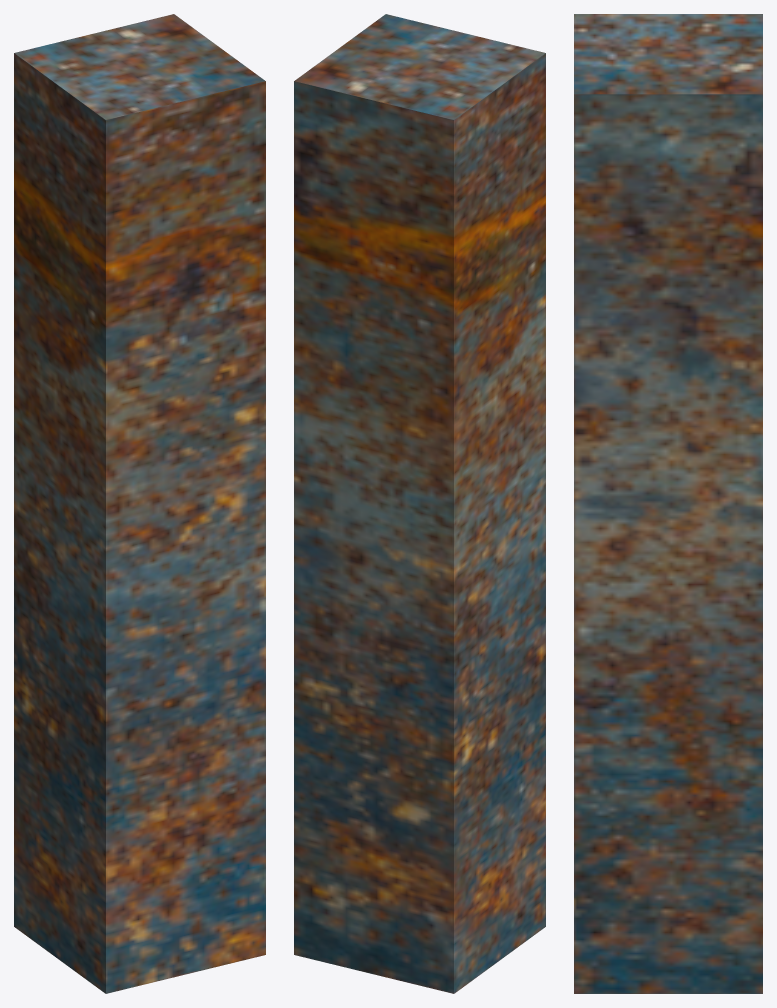
The model's file is big filar.fbx.
3 renders of one model, left to right at view 1: azimuth 30°, elevation 25°; view 2: azimuth 150°, elevation 25°; view 3: azimuth 270°, elevation 25°, orthographic. The views are drawn at different scales.
Parts seen in each view (by area): view 1: Cube.013; view 2: Cube.013; view 3: Cube.013.
Part boxes in pixels (x1,y1,x2,y2): Cube.013: [14, 14, 265, 993]; Cube.013: [294, 14, 545, 993]; Cube.013: [574, 14, 762, 993].
Bounding box in the file's own units: 38.32 × 200 × 38.07.
